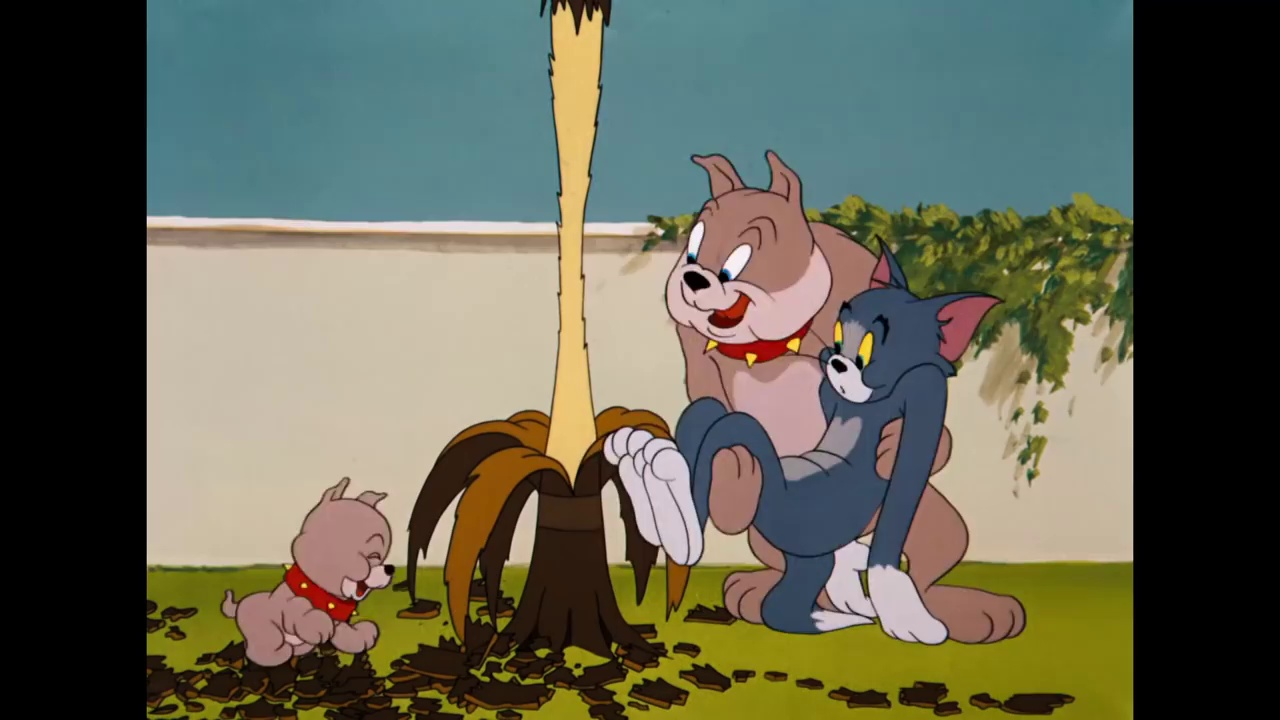spike: (660, 145, 832, 370)
tom: (817, 234, 998, 407)
